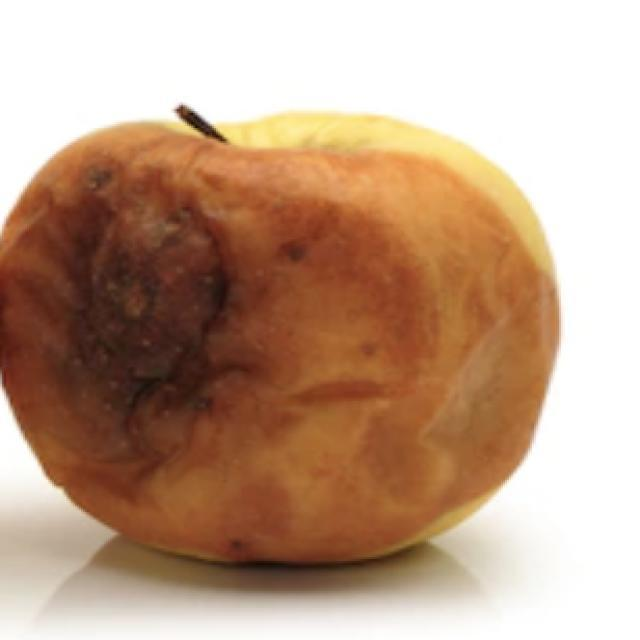Rotten: (6, 115, 532, 577)
